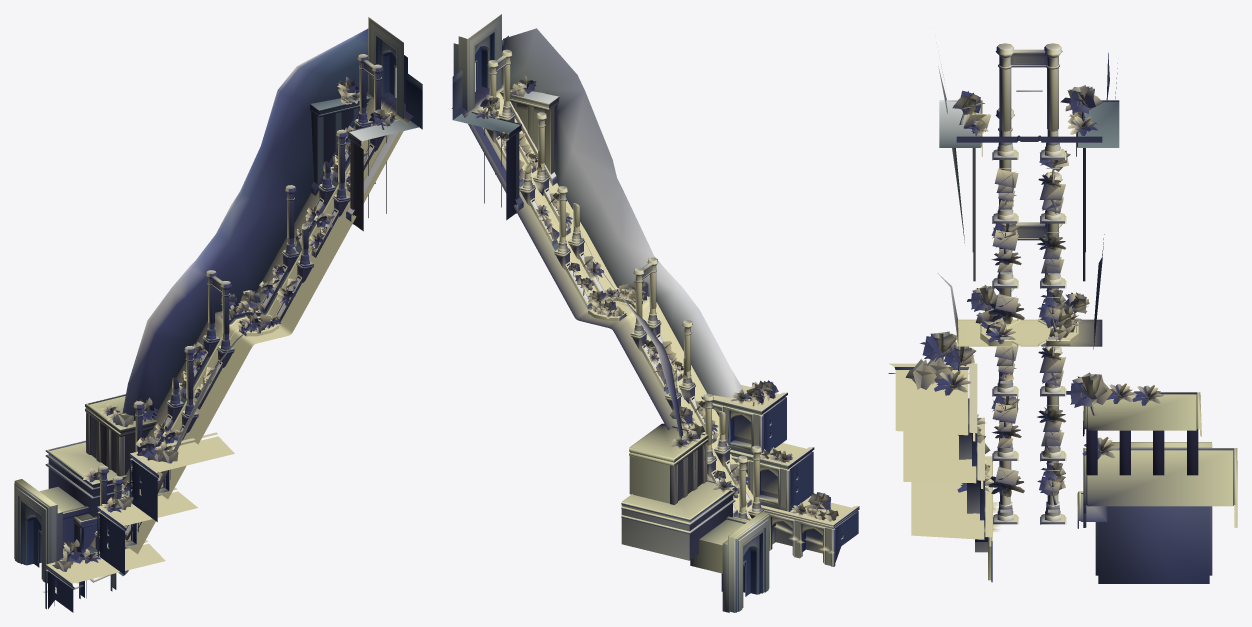
Rendered from 02Slope.gltf.
3 views of the same model, side by side, from view 1: azimuth 30°, elevation 25°; view 2: azimuth 150°, elevation 25°; view 3: azimuth 270°, elevation 25° (orthographic). The views are drawn at different scales.
Parts seen in each view (by area): view 1: stg010_o03_Mesh_0002, stg010_o03_Mesh_0012, stg010_o03_Mesh_0009, stg010_o03_Mesh_0007, stg010_o03_Mesh_0017, stg010_o05_Mesh_0003, stg010_o03_Mesh_0013, stg010_o03_Mesh_0001, stg010_o21_Mesh_0003, stg010_p03_Mesh_0001, stg010_p03_Mesh_0002, stg010_o21_Mesh_0001 (+5 smaller); view 2: stg010_o03_Mesh_0002, stg010_o03_Mesh_0009, stg010_o03_Mesh_0017, stg010_o03_Mesh_0012, stg010_o05_Mesh_0003, stg010_o03_Mesh_0007, stg010_o03_Mesh_0001, stg010_o21_Mesh_0003, stg010_o03_Mesh_0013, stg010_p03_Mesh_0001, stg010_o03_Mesh_0011, stg010_p03_Mesh_0002 (+6 smaller); view 3: stg010_o03_Mesh_0007, stg010_o03_Mesh_0009, stg010_p03_Mesh_0002, stg010_p03_Mesh_0001, stg010_p03_Mesh_0000, stg010_o21_Mesh_0003, stg010_o03_Mesh_0013, stg010_o03_Mesh_0001, stg010_o03_Mesh_0012, stg010_o05_Mesh_0003, stg010_o21_Mesh_0001, stg010_o03_Mesh_0011 (+3 smaller).
Part boxes in pixels (x1,y1,x2,y2): stg010_o03_Mesh_0002: (122, 28, 368, 530); stg010_o03_Mesh_0012: (39, 88, 413, 574); stg010_o03_Mesh_0009: (14, 17, 422, 609); stg010_o03_Mesh_0007: (50, 96, 418, 582); stg010_o03_Mesh_0017: (33, 52, 422, 612); stg010_o05_Mesh_0003: (16, 39, 396, 566); stg010_o03_Mesh_0013: (95, 54, 384, 551); stg010_o03_Mesh_0001: (24, 49, 422, 592); stg010_o21_Mesh_0003: (14, 19, 402, 585); stg010_p03_Mesh_0001: (63, 76, 389, 561); stg010_p03_Mesh_0002: (54, 114, 390, 571); stg010_o21_Mesh_0001: (15, 23, 401, 597); stg010_o03_Mesh_0002: (501, 28, 745, 438); stg010_o03_Mesh_0009: (452, 14, 859, 612); stg010_o03_Mesh_0017: (452, 36, 858, 596); stg010_o03_Mesh_0012: (452, 81, 753, 545); stg010_o05_Mesh_0003: (475, 35, 822, 612); stg010_o03_Mesh_0007: (453, 90, 851, 522); stg010_o03_Mesh_0001: (452, 40, 842, 555); stg010_o21_Mesh_0003: (468, 16, 858, 611); stg010_o03_Mesh_0013: (486, 49, 760, 518); stg010_p03_Mesh_0001: (480, 76, 830, 514); stg010_o03_Mesh_0011: (496, 58, 830, 565); stg010_p03_Mesh_0002: (510, 83, 838, 521); stg010_o03_Mesh_0007: (895, 102, 1233, 539); stg010_o03_Mesh_0009: (888, 49, 1237, 583); stg010_p03_Mesh_0002: (905, 112, 1114, 493); stg010_p03_Mesh_0001: (920, 85, 1106, 505); stg010_p03_Mesh_0000: (934, 116, 1163, 497); stg010_o21_Mesh_0003: (889, 147, 1078, 537); stg010_o03_Mesh_0013: (998, 43, 1060, 495); stg010_o03_Mesh_0001: (980, 44, 1078, 524); stg010_o03_Mesh_0012: (956, 136, 1102, 346); stg010_o05_Mesh_0003: (994, 56, 1212, 521); stg010_o21_Mesh_0001: (959, 58, 1058, 552); stg010_o03_Mesh_0011: (998, 56, 1060, 516).
Bounding box in the file's own units: 155 × 197 × 76.67.
